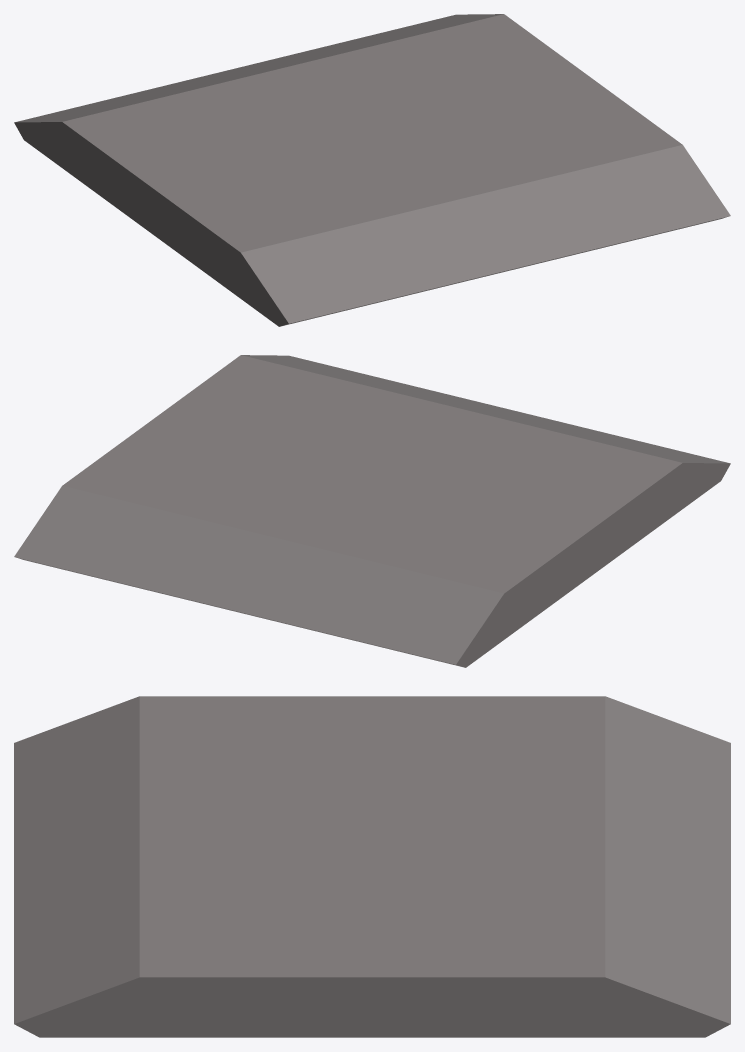
Rendered from scifi-roof-corridor.glb.
3 renders of one model, top to bottom at view 1: azimuth 30°, elevation 25°; view 2: azimuth 150°, elevation 25°; view 3: azimuth 270°, elevation 25°, orthographic. The views are drawn at different scales.
Visible parts, largest first — view 1: scifi-roof-corridor; view 2: scifi-roof-corridor; view 3: scifi-roof-corridor.
Part boxes in pixels (x1,y1,x2,y2): scifi-roof-corridor: [14, 14, 730, 326]; scifi-roof-corridor: [14, 355, 730, 667]; scifi-roof-corridor: [14, 696, 730, 1037].
Size of the model in its own units: 4 by 0.4 by 4.31.
Materials: 1 (1 with a texture image).
